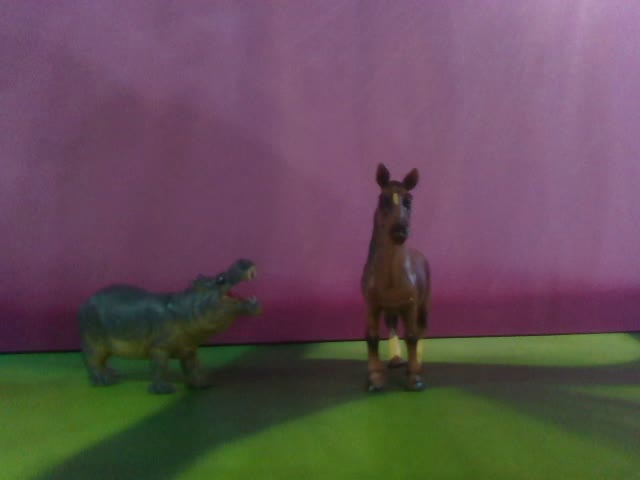toy: (77, 259, 263, 395), (362, 161, 431, 393)
